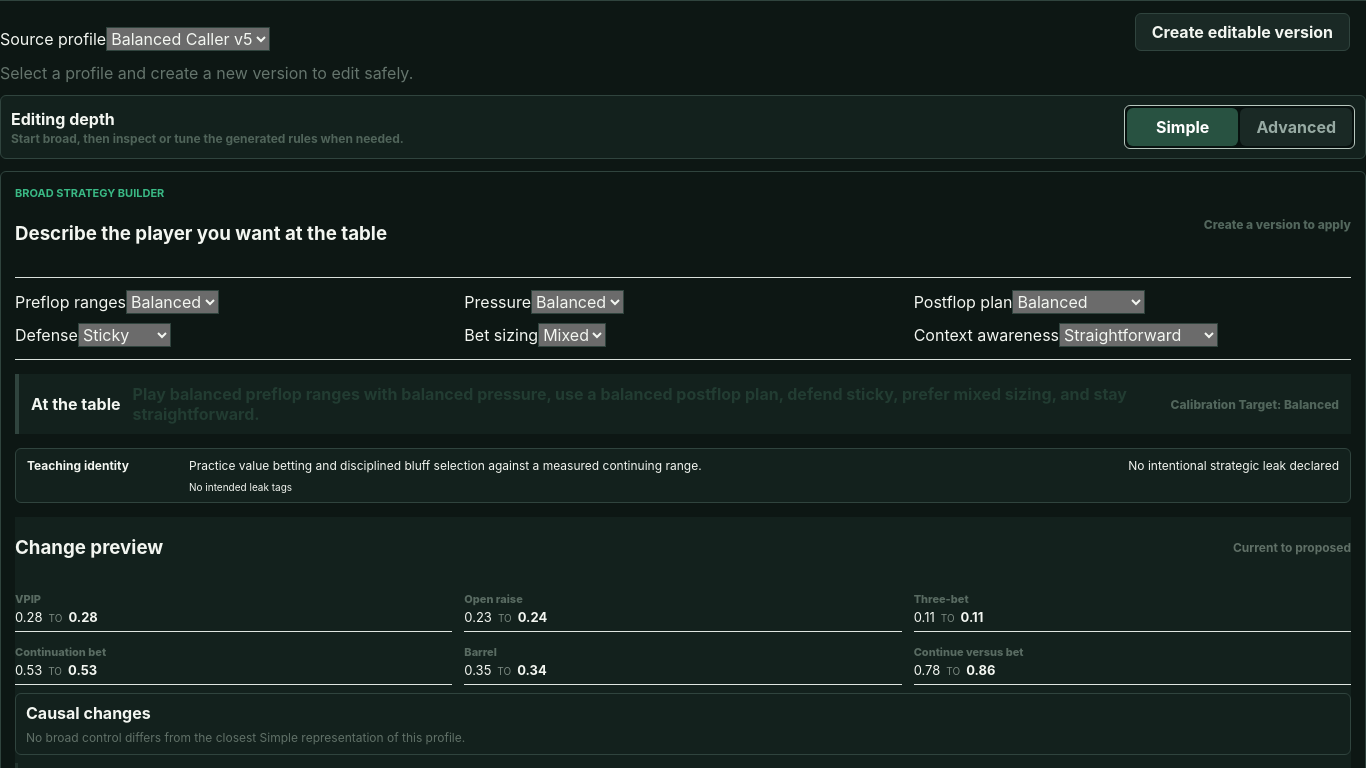
Scenario: Admin strategy workspace › keeps calibration in a focused filterable stage
What coordinates should you click on to do the following:
click the button "Advanced"
I would click on:
 (1296, 127)
Its box is [1240, 108, 1352, 146].
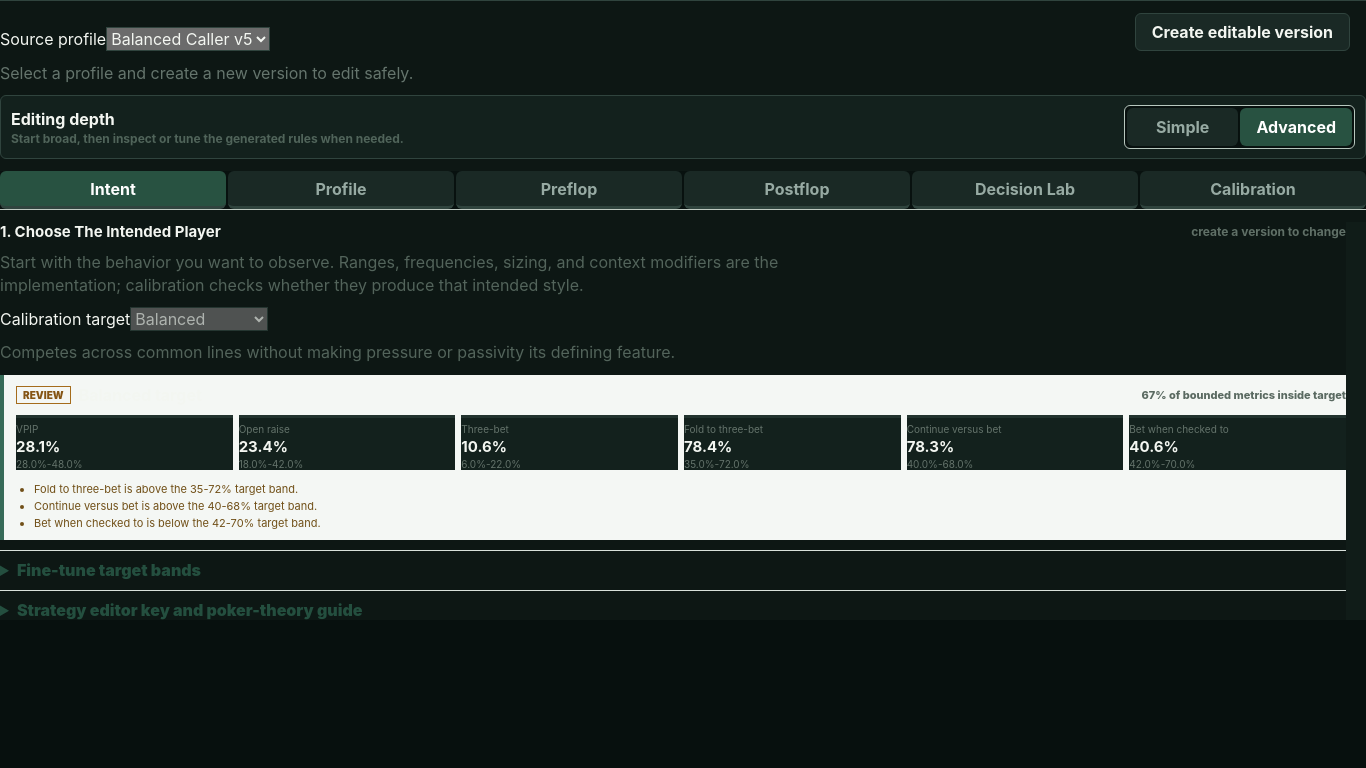
What coordinates should you click on to do the following:
click the tab "Calibration"
I would click on:
 (1253, 190)
Its box is [1140, 171, 1365, 209].
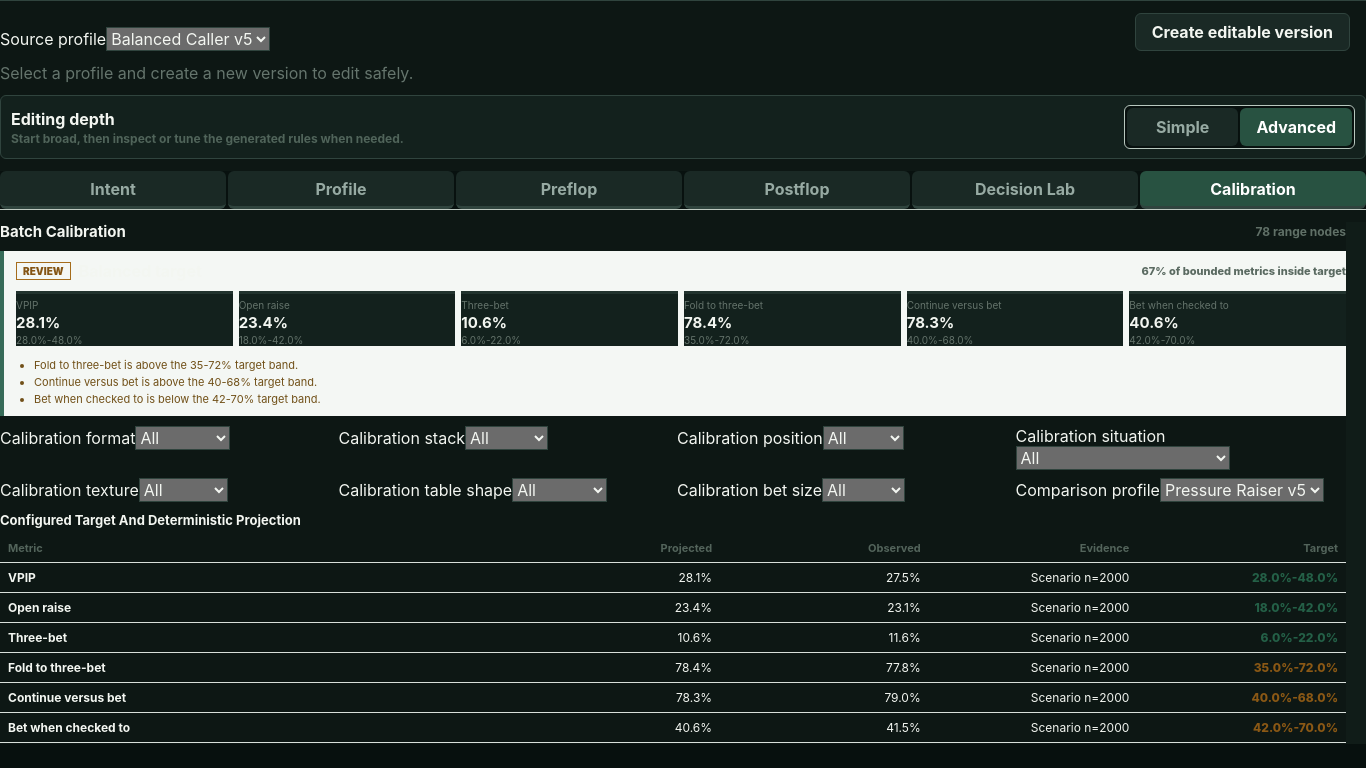
expect the dropdown labelled "Calibration format" is shown: met, box [135, 426, 230, 450]
expect the dropdown labelled "Comparison profile" is shown: met, box [1160, 478, 1324, 502]
expect the element named "Deterministic behavior configuration" is shown: met, box [0, 512, 1346, 744]
